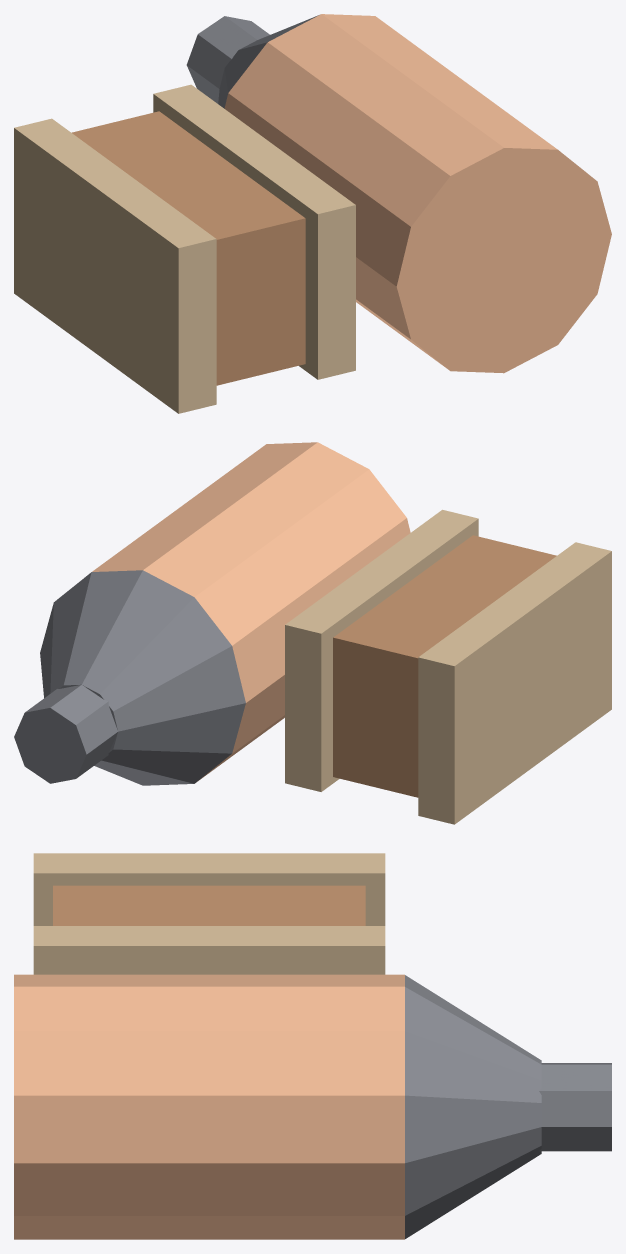
The model's file is smoker_held.gltf.
The picture shows the model from 3 angles, top to bottom: view 1: azimuth 30°, elevation 25°; view 2: azimuth 150°, elevation 25°; view 3: azimuth 270°, elevation 25°; orthographic projection. The views are drawn at different scales.
Visible parts, largest first — view 1: bees_smoker_held; view 2: bees_smoker_held; view 3: bees_smoker_held.
Boxes of the visible parts, bbox=[...] form: bees_smoker_held: bbox=[14, 14, 611, 413]; bees_smoker_held: bbox=[14, 442, 611, 824]; bees_smoker_held: bbox=[14, 853, 611, 1239].
Bounding box in the file's own units: 0.134 × 0.068 × 0.153.
